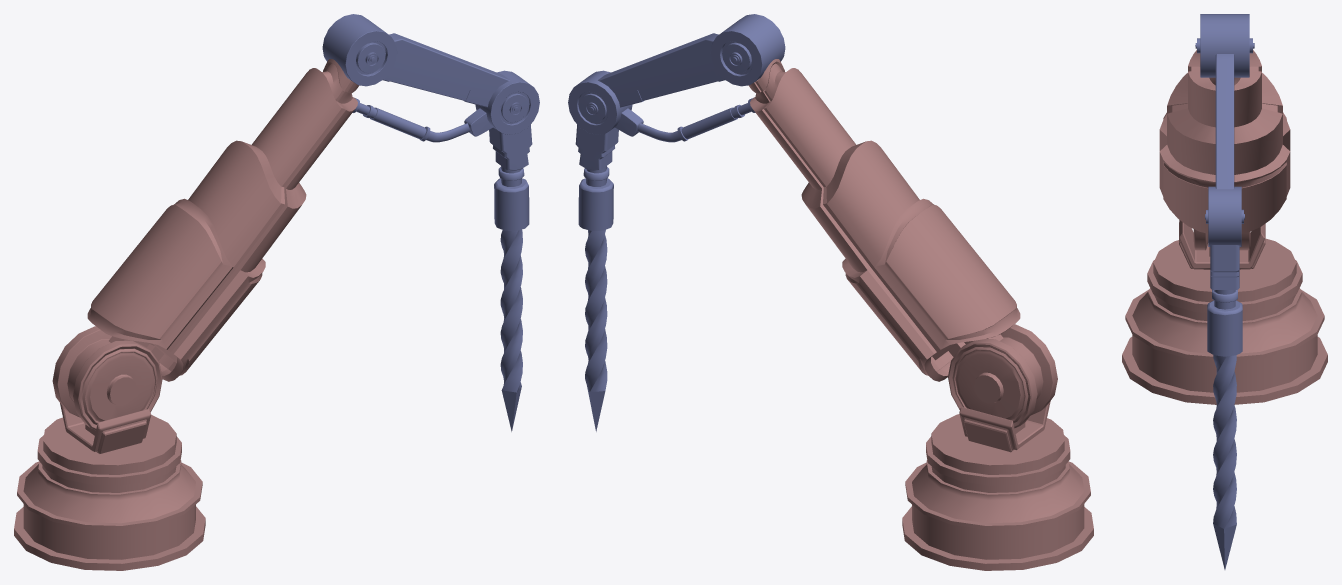
The model's file is Mechanic_Arm (1).fbx.
3 views of the same model, side by side, from view 1: azimuth 30°, elevation 25°; view 2: azimuth 150°, elevation 25°; view 3: azimuth 270°, elevation 25° (orthographic). The views are drawn at different scales.
Visible parts, largest first — view 1: polySurface7; view 2: polySurface7; view 3: polySurface7.
Boxes of the visible parts, left/top/right/bottom form: polySurface7: left=14, top=14, right=539, bottom=570; polySurface7: left=568, top=14, right=1093, bottom=570; polySurface7: left=1122, top=14, right=1327, bottom=569.
Bounding box in the file's own units: 1.83 × 1.54 × 0.6043.
